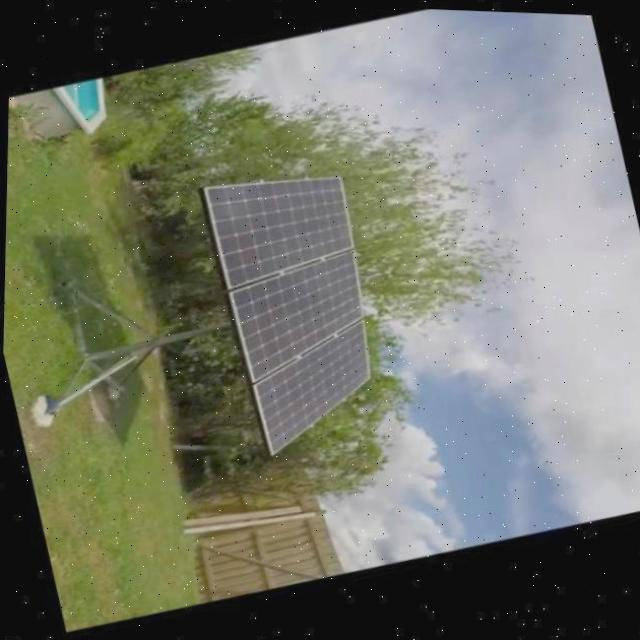Normal Solar Panel: (197, 156, 357, 293), (220, 247, 376, 386), (239, 318, 387, 458)
